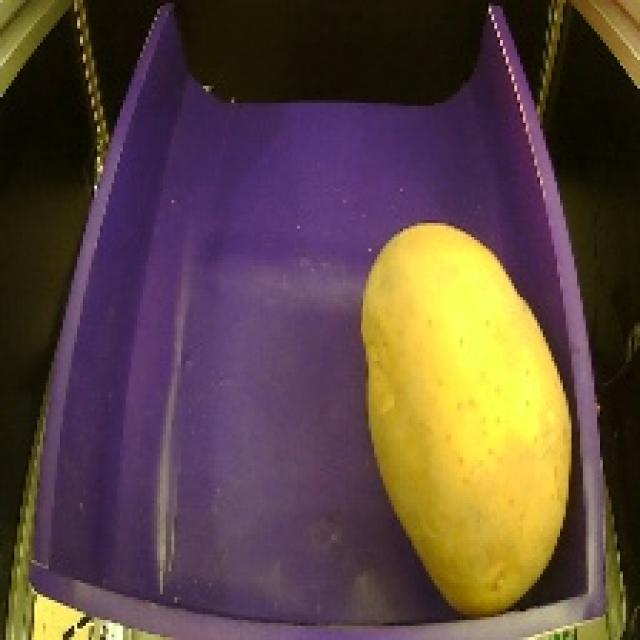full_potato: (338, 204, 590, 622)
